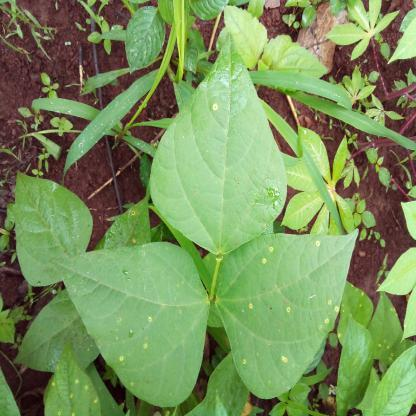Beans_Rust: (152, 33, 287, 252), (55, 250, 211, 406), (220, 228, 364, 392), (42, 342, 104, 416), (333, 284, 376, 344)
